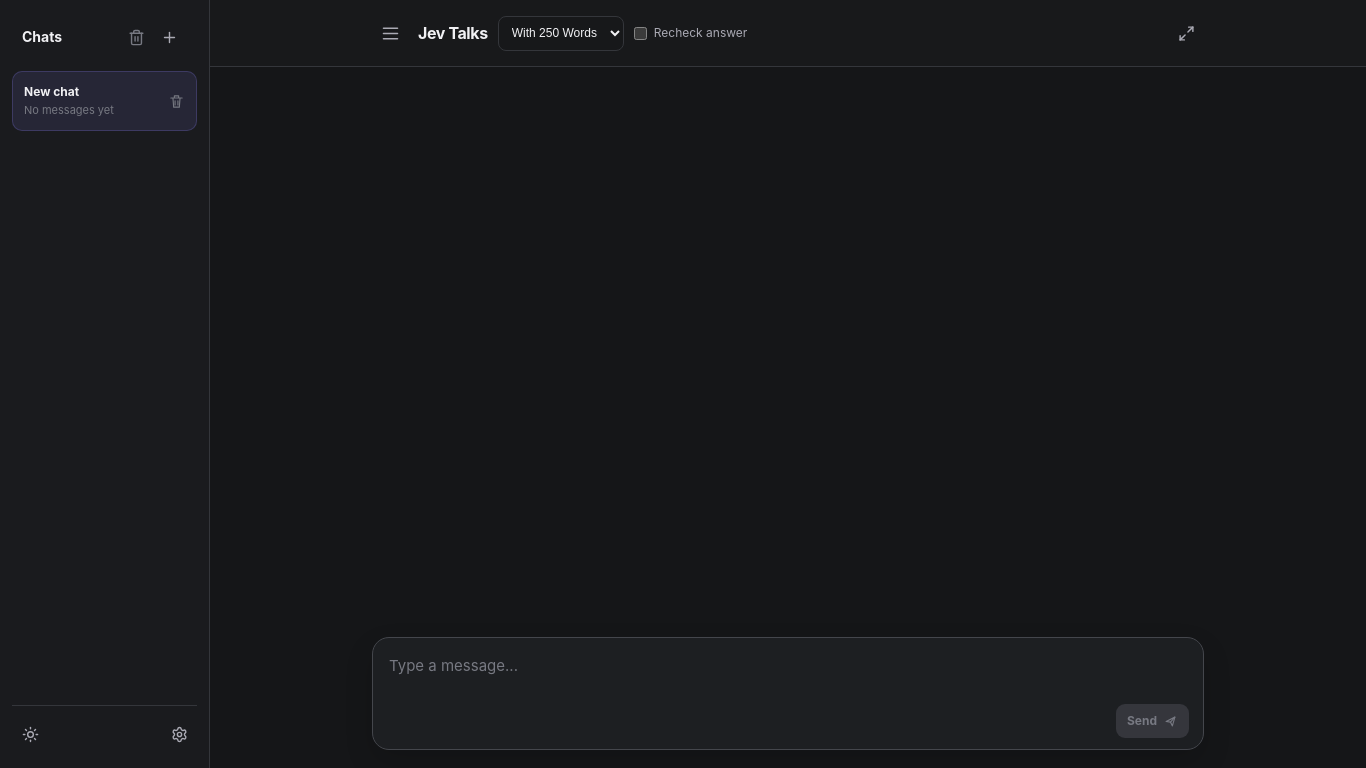
Test: chat interface › places method and recheck beside the title and expands the whole chat header
This screenshot has width=1366, height=768.
Expected: the dropdown named "Jev method" is shown, left=498, top=16, right=624, bottom=50
Expected: the checkbox labelled "Recheck answer" is shown, left=634, top=26, right=647, bottom=40
Click the button named "Expand chat" at (1186, 33), box left=1169, top=16, right=1204, bottom=50
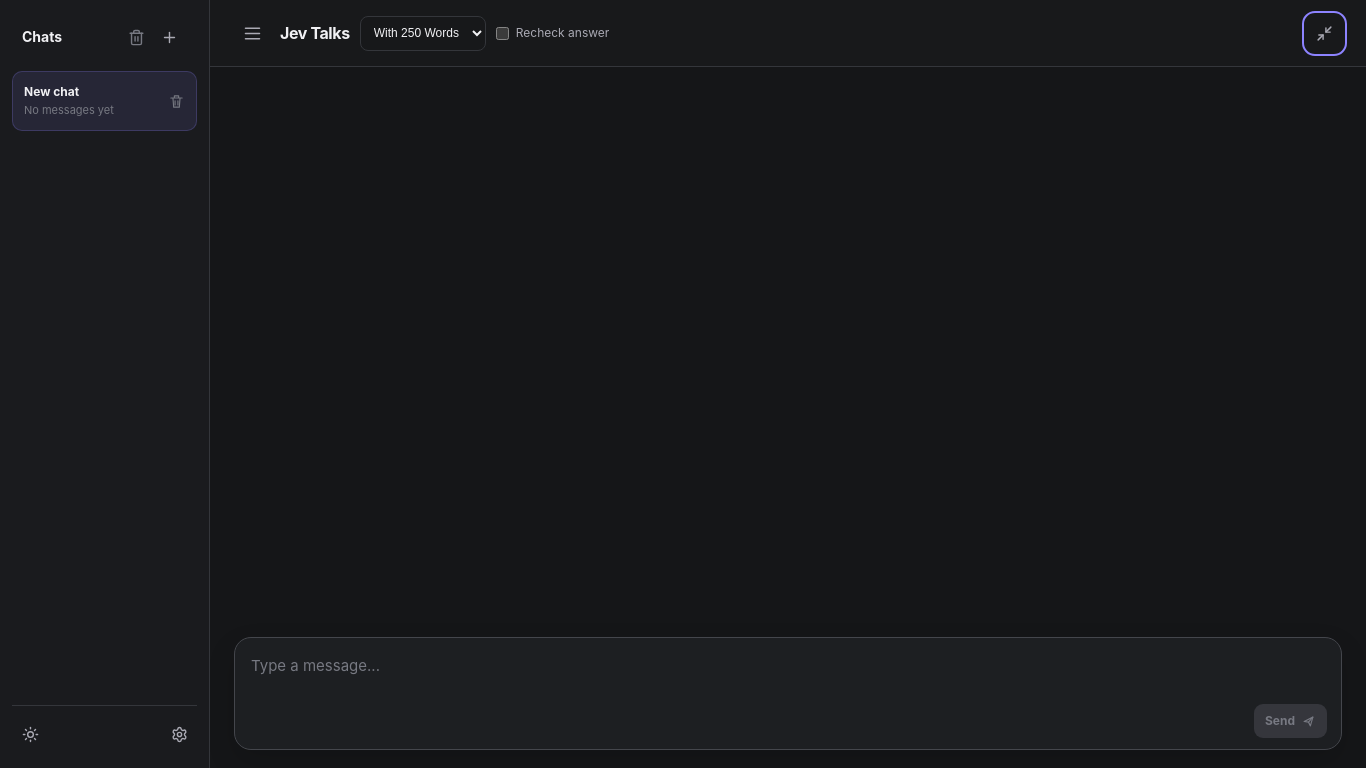
Now the button named "Collapse chat" is shown, box left=1307, top=16, right=1342, bottom=50
